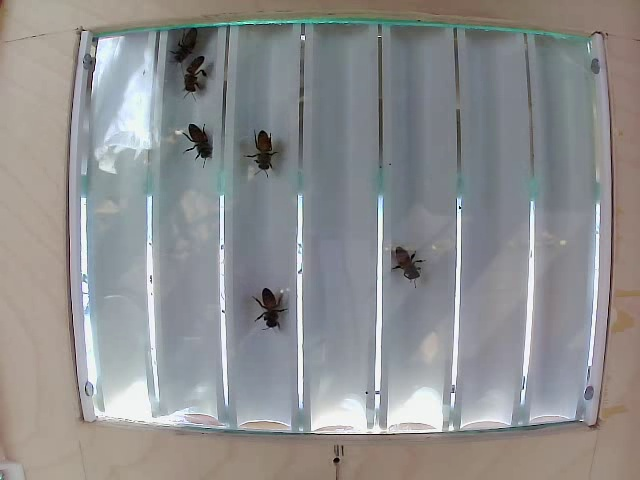bee: (252, 280, 287, 344), (246, 123, 280, 183), (386, 241, 426, 291), (177, 58, 216, 101), (185, 115, 217, 167), (168, 31, 195, 64)
